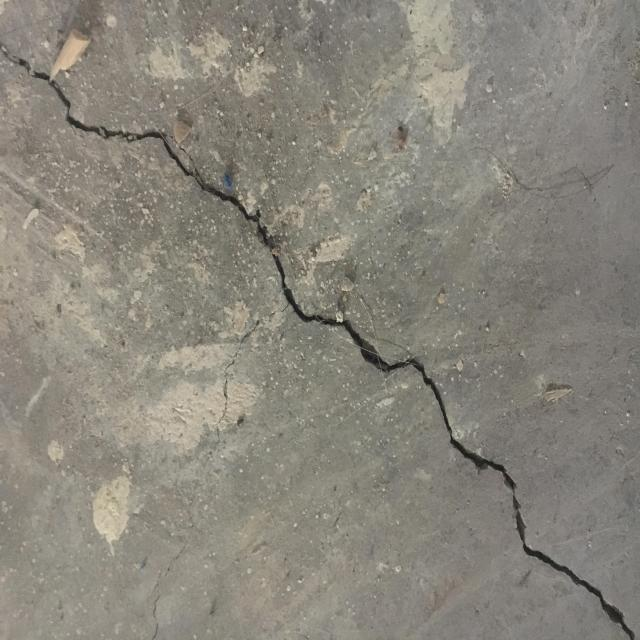Rachadura: (0, 30, 640, 640)
